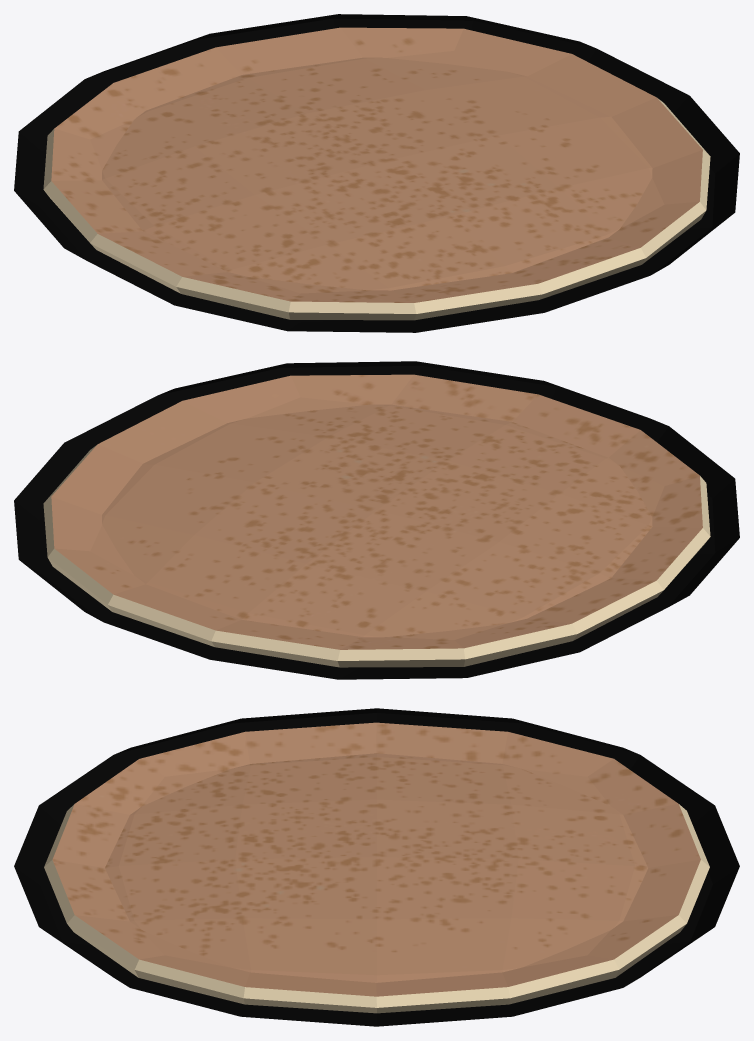
Rendered from Single Cracker.fbx.
3 views of the same model, one above another, from view 1: azimuth 30°, elevation 25°; view 2: azimuth 150°, elevation 25°; view 3: azimuth 270°, elevation 25° (orthographic).
Visible parts, largest first — view 1: whole cracker; view 2: whole cracker; view 3: whole cracker.
Boxes of the visible parts, x1,y1,x2,y2 form: whole cracker: (14,14,739,332); whole cracker: (14,361,739,679); whole cracker: (14,708,739,1026).
Bounding box in the file's own units: 169 × 19.69 × 169.
